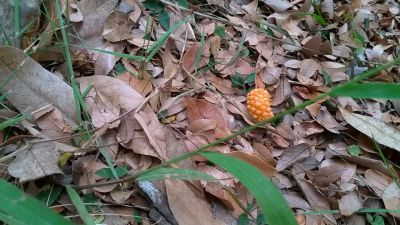eggs: (243, 86, 278, 124)
